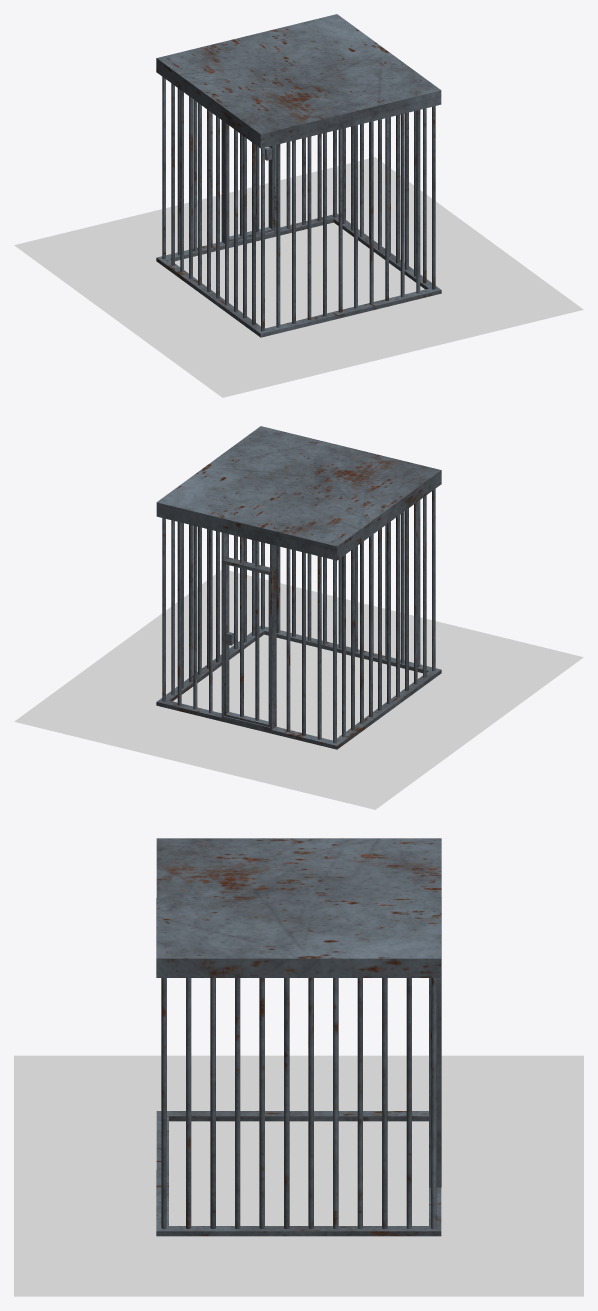
File: SQ-CAGE_FBX_NO-SUB-MOD.fbx
The picture shows the model from 3 angles, top to bottom: view 1: azimuth 30°, elevation 25°; view 2: azimuth 150°, elevation 25°; view 3: azimuth 270°, elevation 25°; orthographic projection. The views are drawn at different scales.
Parts seen in each view (by area): view 1: Plane, CAGE_BASE, CAGE_BASE.001; view 2: Plane, CAGE_BASE, CAGE_BASE.001; view 3: Plane, CAGE_BASE, CAGE_BASE.001.
Boxes of the visible parts, x1=… form: Plane: x1=14, y1=157, x2=583, y2=397; CAGE_BASE: x1=156, y1=14, x2=441, y2=337; CAGE_BASE.001: x1=162, y1=77, x2=435, y2=331; Plane: x1=14, y1=570, x2=583, y2=809; CAGE_BASE: x1=156, y1=426, x2=441, y2=749; CAGE_BASE.001: x1=162, y1=489, x2=435, y2=743; Plane: x1=14, y1=1055, x2=583, y2=1296; CAGE_BASE: x1=156, y1=838, x2=441, y2=1236; CAGE_BASE.001: x1=161, y1=978, x2=436, y2=1228.
Bounding box in the file's own units: 400 × 215 × 400.
